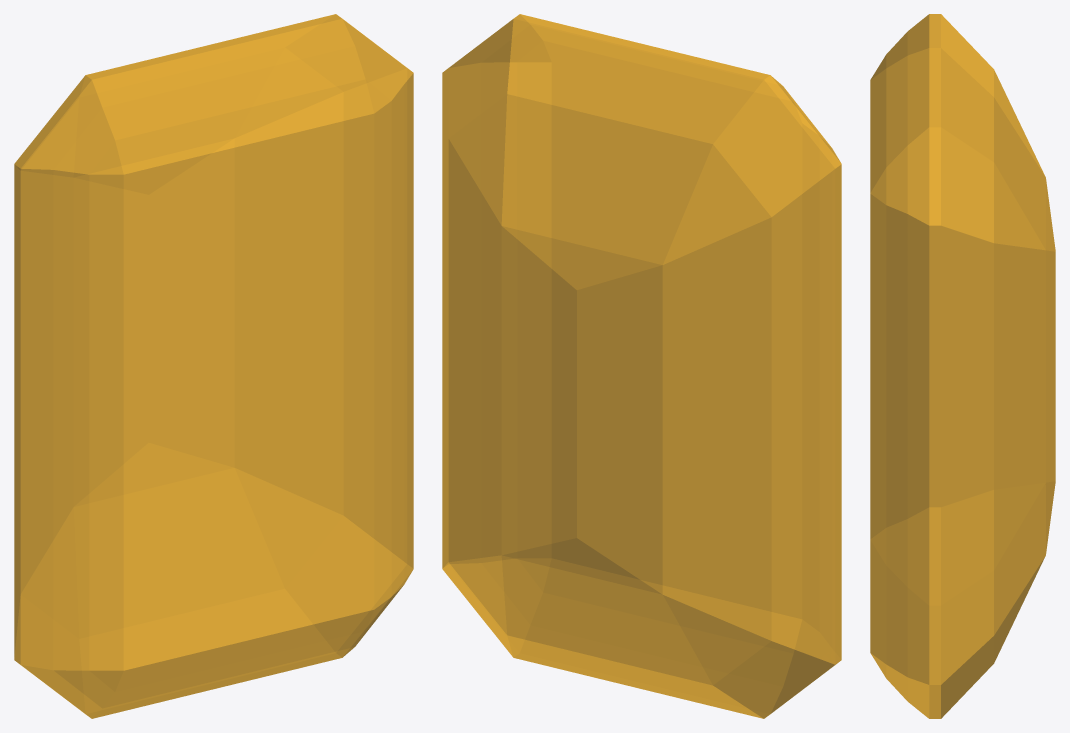
File: emerald citrine.glb
3 renders of one model, left to right at view 1: azimuth 30°, elevation 25°; view 2: azimuth 150°, elevation 25°; view 3: azimuth 270°, elevation 25°, orthographic. The views are drawn at different scales.
Parts seen in each view (by area): view 1: Emerald; view 2: Emerald; view 3: Emerald.
Part boxes in pixels (x1=…): Emerald: x1=14, y1=14, x2=413, y2=718; Emerald: x1=442, y1=14, x2=841, y2=718; Emerald: x1=870, y1=14, x2=1055, y2=718.
Bounding box in the file's own units: 1.29 × 2 × 0.568.
